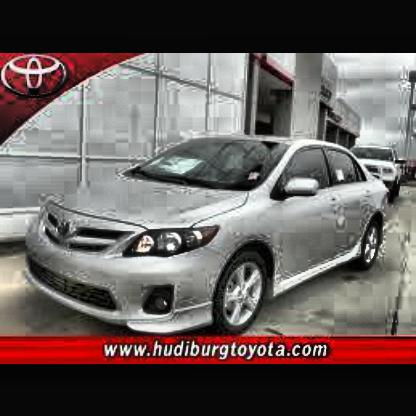Toyota Corolla Sedan 2012: (14, 134, 397, 337)
